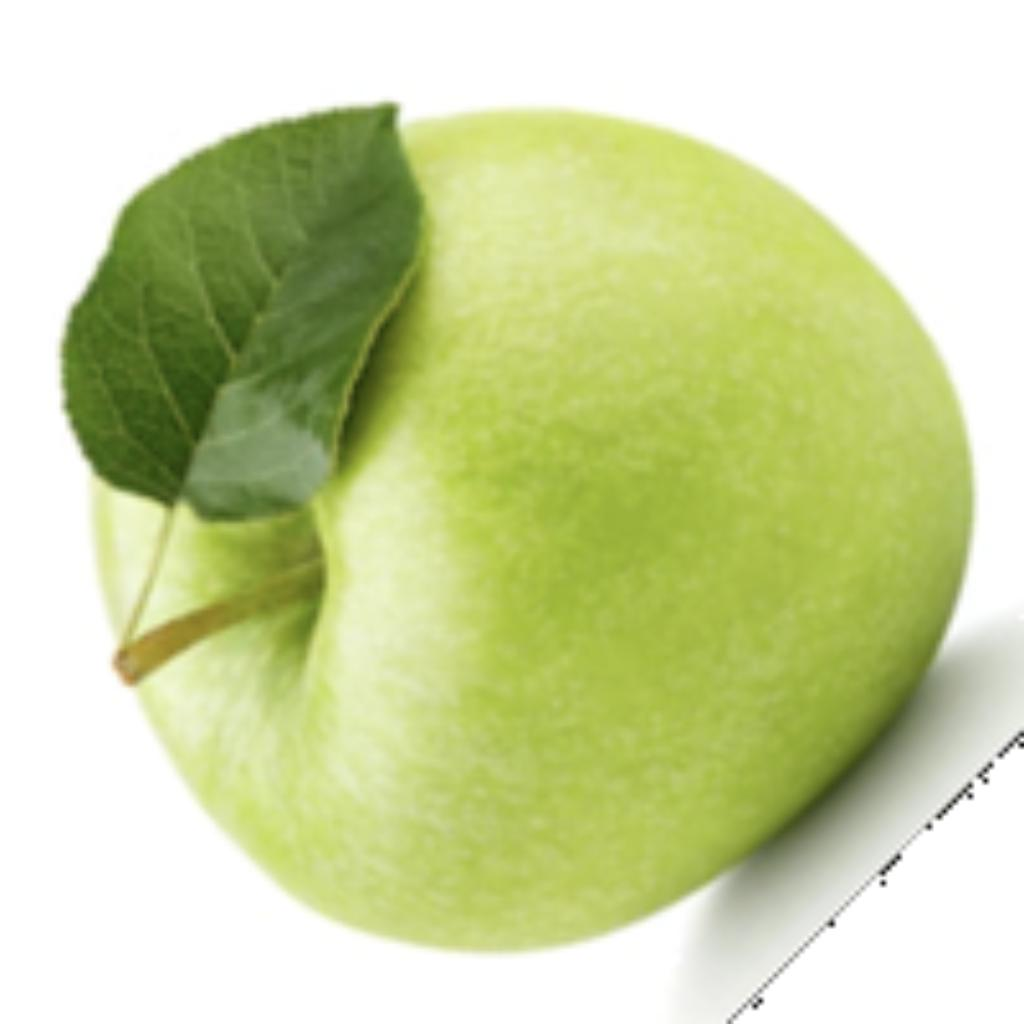apple: (51, 92, 1019, 1019)
